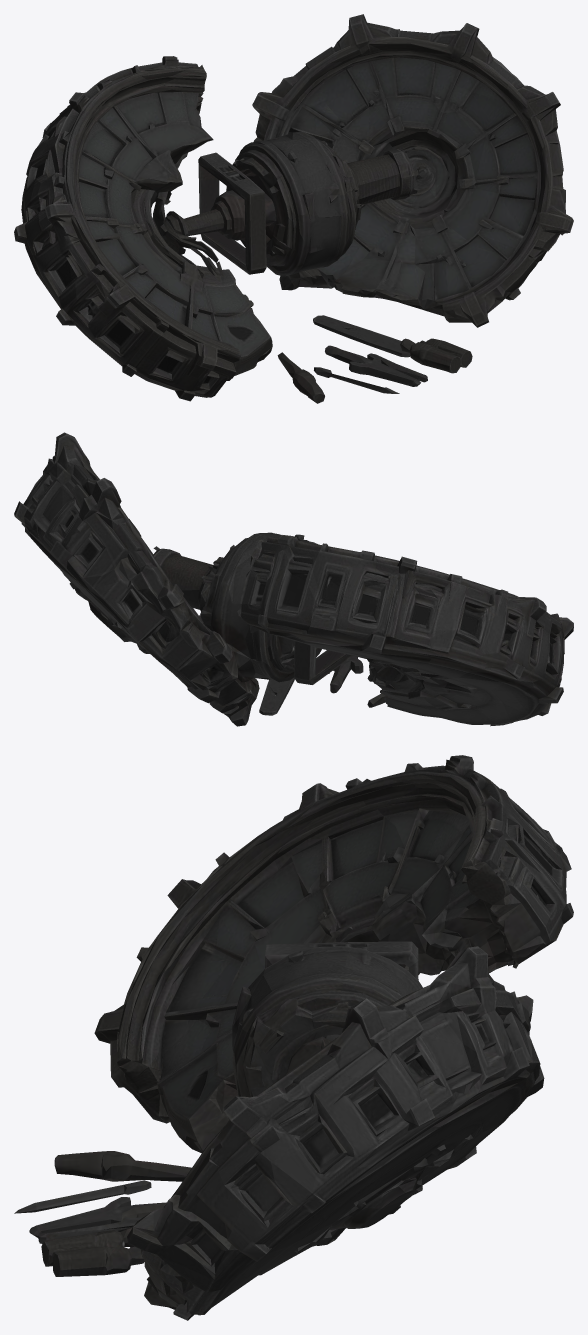
The model's file is web.glb.
3 views of the same model, one above another, from view 1: azimuth 30°, elevation 25°; view 2: azimuth 150°, elevation 25°; view 3: azimuth 270°, elevation 25° (orthographic). The views are drawn at different scales.
Parts seen in each view (by area): view 1: output_unwrapped; view 2: output_unwrapped; view 3: output_unwrapped.
Part boxes in pixels (box(x1,y1,x2,y2)): output_unwrapped: box(14, 14, 573, 403); output_unwrapped: box(14, 432, 573, 726); output_unwrapped: box(14, 755, 573, 1320).
Bounding box in the file's own units: 1.89 × 0.8934 × 1.26.
Materials: 1 (1 with a texture image).
